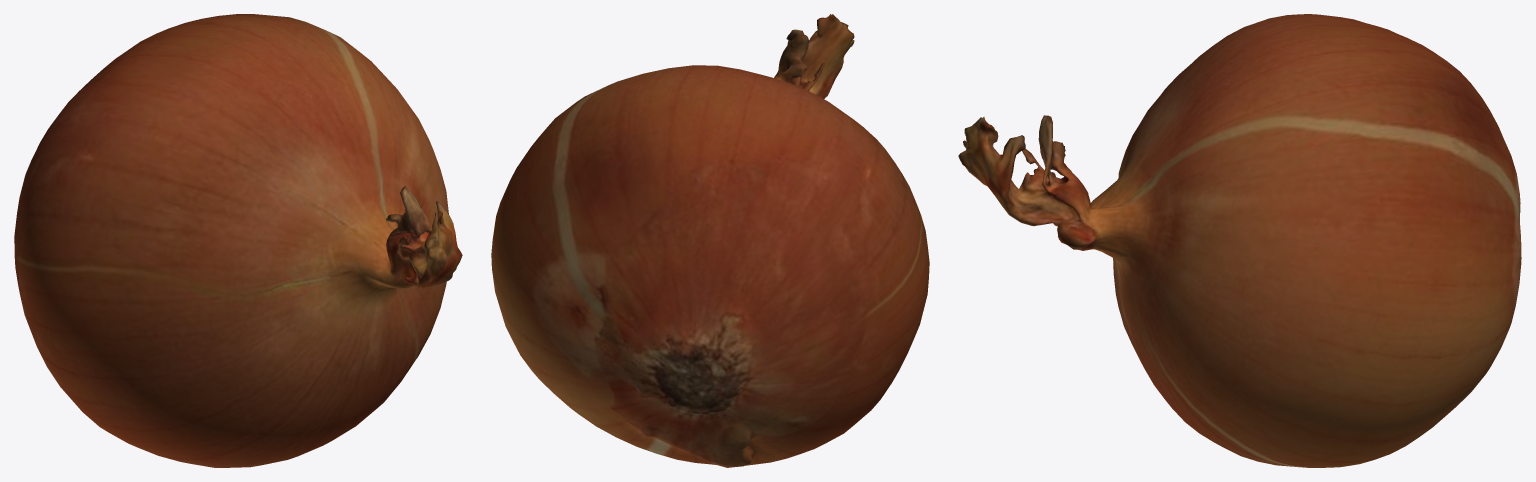
Rendered from onion.glb.
3 views of the same model, side by side, from view 1: azimuth 30°, elevation 25°; view 2: azimuth 150°, elevation 25°; view 3: azimuth 270°, elevation 25° (orthographic). The views are drawn at different scales.
Parts seen in each view (by area): view 1: yellow_onion; view 2: yellow_onion; view 3: yellow_onion.
Boxes of the visible parts, x1=… form: yellow_onion: x1=14, y1=14, x2=462, y2=467; yellow_onion: x1=491, y1=14, x2=929, y2=467; yellow_onion: x1=958, y1=14, x2=1521, y2=467.
Bounding box in the file's own units: 0.0725 × 0.0686 × 0.0864.
1 material, 1 textured.
